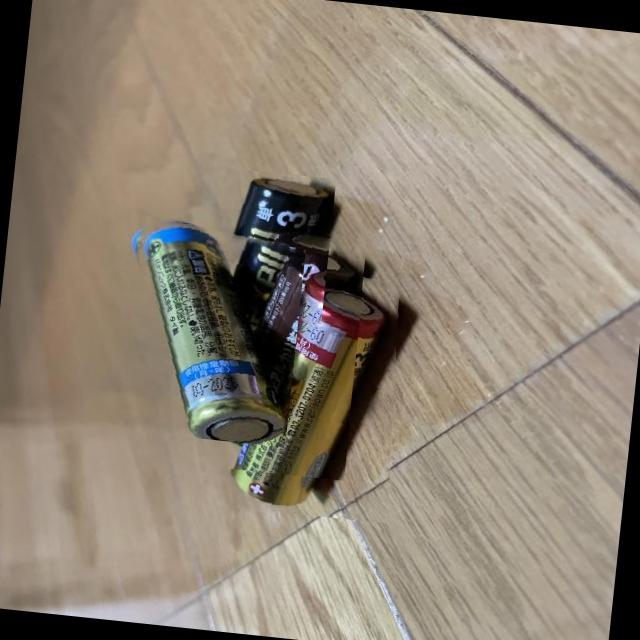Hazard: (224, 255, 413, 522), (105, 211, 308, 446), (208, 212, 370, 480), (189, 164, 336, 332)
